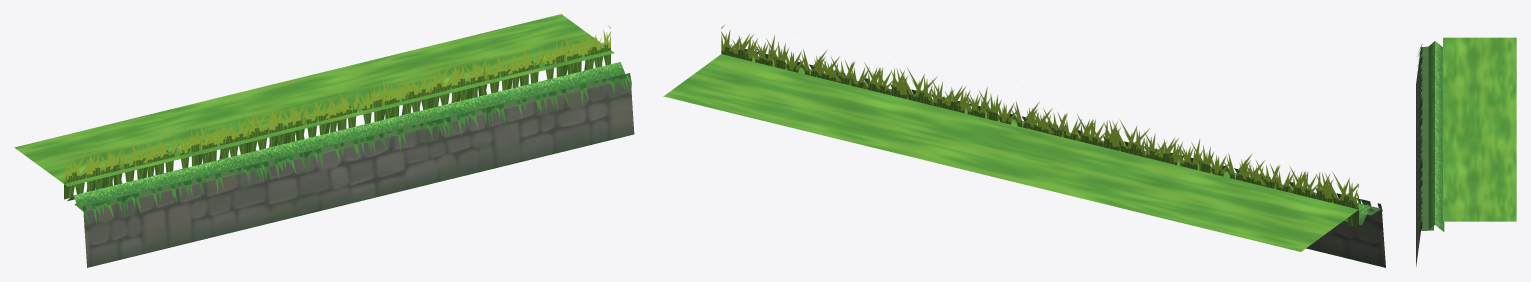
File: terrace_straight_young_far.glb
The picture shows the model from 3 angles, left to right: view 1: azimuth 30°, elevation 25°; view 2: azimuth 150°, elevation 25°; view 3: azimuth 270°, elevation 25°; orthographic projection. The views are drawn at different scales.
Parts seen in each view (by area): view 1: terrace_straight_young_far_cards, terrace_straight_young_far_wall, terrace_straight_young_far_dike; view 2: terrace_straight_young_far_cards, terrace_straight_young_far_wall; view 3: terrace_straight_young_far_cards, terrace_straight_young_far_dike, terrace_straight_young_far_wall.
Boxes of the visible parts, bbox=[...] form: terrace_straight_young_far_cards: bbox=[14, 14, 631, 225]; terrace_straight_young_far_wall: bbox=[74, 73, 634, 267]; terrace_straight_young_far_dike: bbox=[67, 62, 624, 206]; terrace_straight_young_far_cards: bbox=[663, 25, 1382, 251]; terrace_straight_young_far_wall: bbox=[745, 53, 1385, 267]; terrace_straight_young_far_cards: bbox=[1417, 37, 1516, 236]; terrace_straight_young_far_dike: bbox=[1428, 41, 1444, 231]; terrace_straight_young_far_wall: bbox=[1416, 46, 1433, 266].
Bounding box in the file's own units: 12 × 2.13 × 2.79.
Materials: 3 (3 with a texture image).
